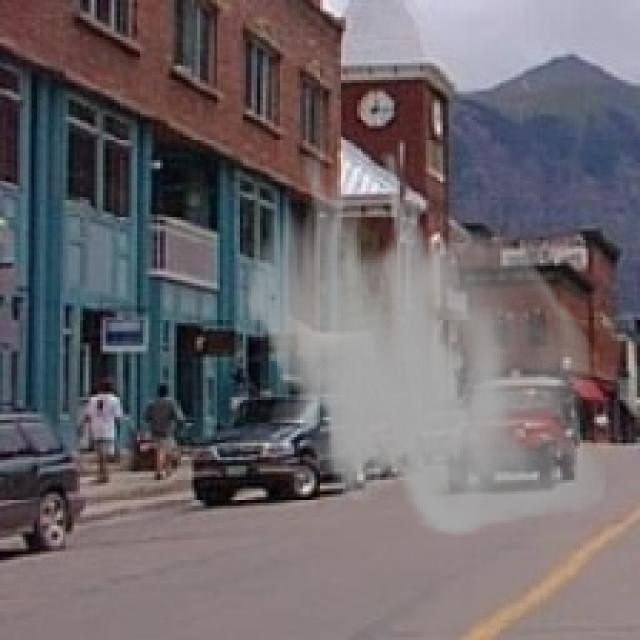smoke: (243, 152, 608, 537)
